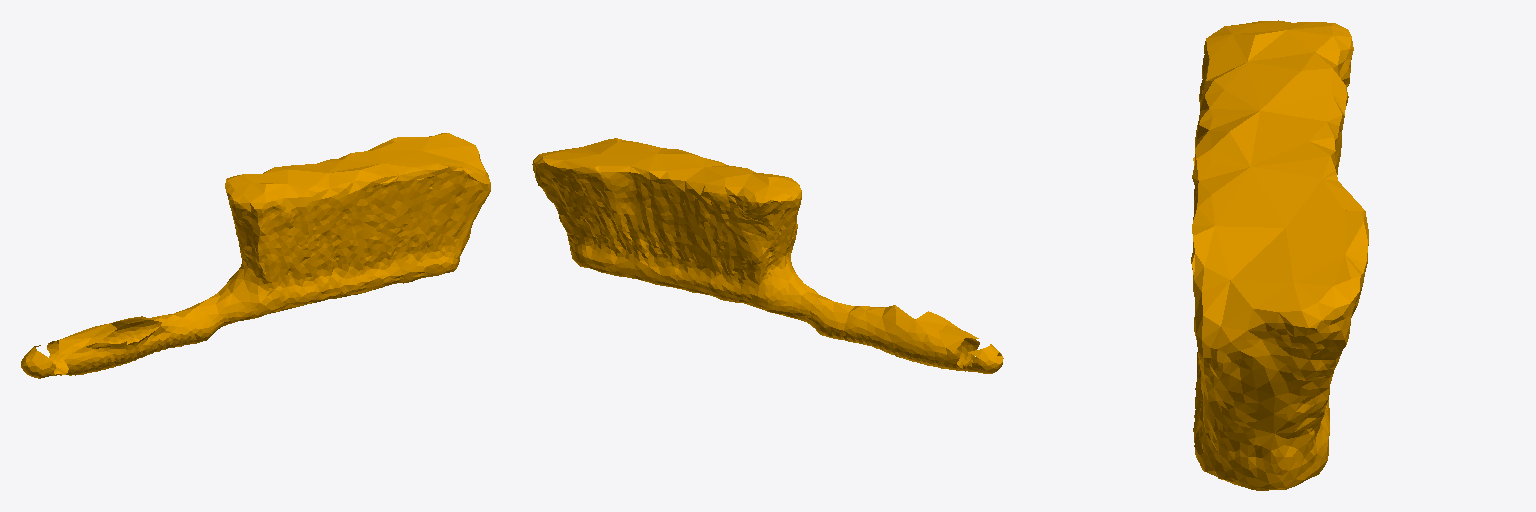
robot.urdf — brush_scanned:
<?xml version="1.0"?>
<!-- Lab brush (brush.usdz scan, handle artifact trimmed), re-framed to the
     red_brush axis convention (handle -x, head +x, bristles +z). FP tracks the
     ORIGINAL scan; the relay applies brush_scanned_reframe.json. -->
<robot name="brush_scanned">
  <link name="brush_scanned">
    <visual><origin xyz="0 0 0" rpy="0 0 0"/><geometry><mesh filename="brush_scanned.obj" scale="1 1 1"/></geometry></visual>
    <collision><origin xyz="0 0 0" rpy="0 0 0"/><geometry><mesh filename="brush_scanned.obj" scale="1 1 1"/></geometry></collision>
    <inertial><density value="400.0"/></inertial>
  </link>
</robot>

--- Facts derived from the render (not from the file) ---
Views: 3 orthographic renders of the robot side by side, from view 1: azimuth 30°, elevation 25°; view 2: azimuth 150°, elevation 25°; view 3: azimuth 270°, elevation 25°.
Robot: brush_scanned — 1 links, 0 joints (none); root link brush_scanned; default pose: every joint at zero.
Visible links, largest first — view 1: brush_scanned; view 2: brush_scanned; view 3: brush_scanned.
Link boxes in pixels (bbox=[...]): brush_scanned: bbox=[21, 133, 490, 378]; brush_scanned: bbox=[532, 138, 1003, 373]; brush_scanned: bbox=[1191, 20, 1368, 490].
Bounding box of the posed robot: 0.3066 × 0.0483 × 0.0926 m (x, y, z).
Meshes: 1 distinct files referenced, 1 mesh visuals loaded (1 OBJ).
